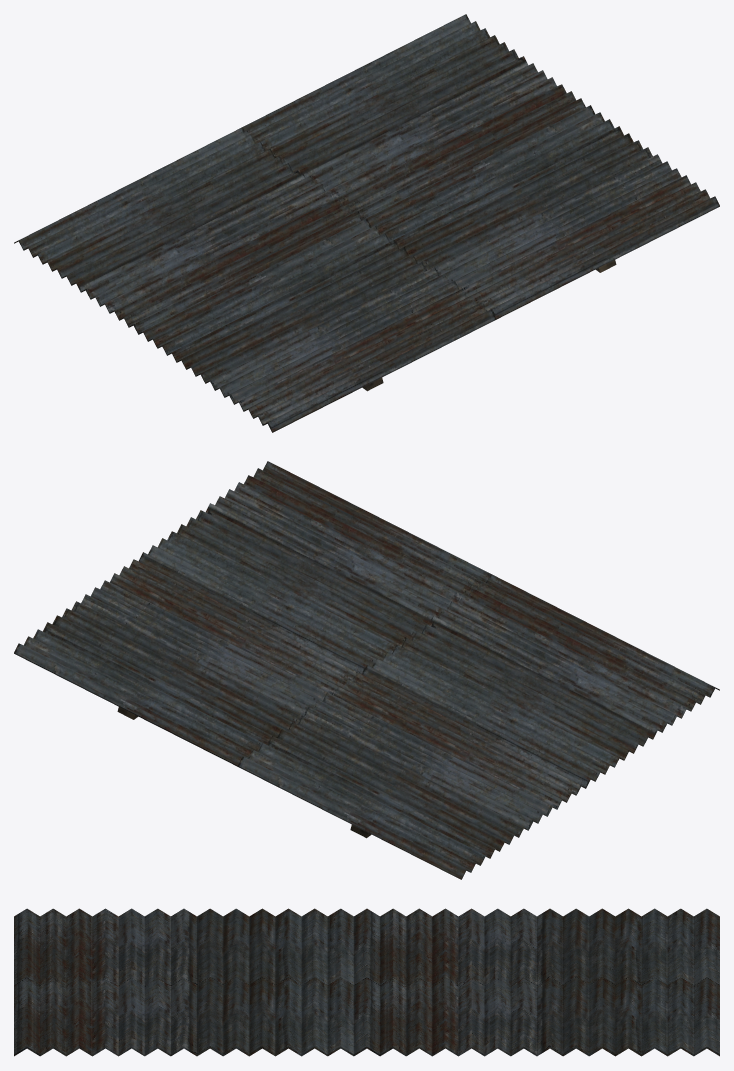
File: roof_hr_3_middle_angle.obj
3 views of the same model, one above another, from view 1: azimuth 30°, elevation 25°; view 2: azimuth 150°, elevation 25°; view 3: azimuth 270°, elevation 25° (orthographic). The views are drawn at different scales.
Parts seen in each view (by area): view 1: roof_hr_3_middle_angle; view 2: roof_hr_3_middle_angle; view 3: roof_hr_3_middle_angle.
Boxes of the visible parts, left/top/right/bottom form: roof_hr_3_middle_angle: left=14, top=14, right=719, bottom=432; roof_hr_3_middle_angle: left=14, top=461, right=719, bottom=879; roof_hr_3_middle_angle: left=14, top=908, right=719, bottom=1056.
Size of the model in its own units: 4 by 1.06 by 4.
